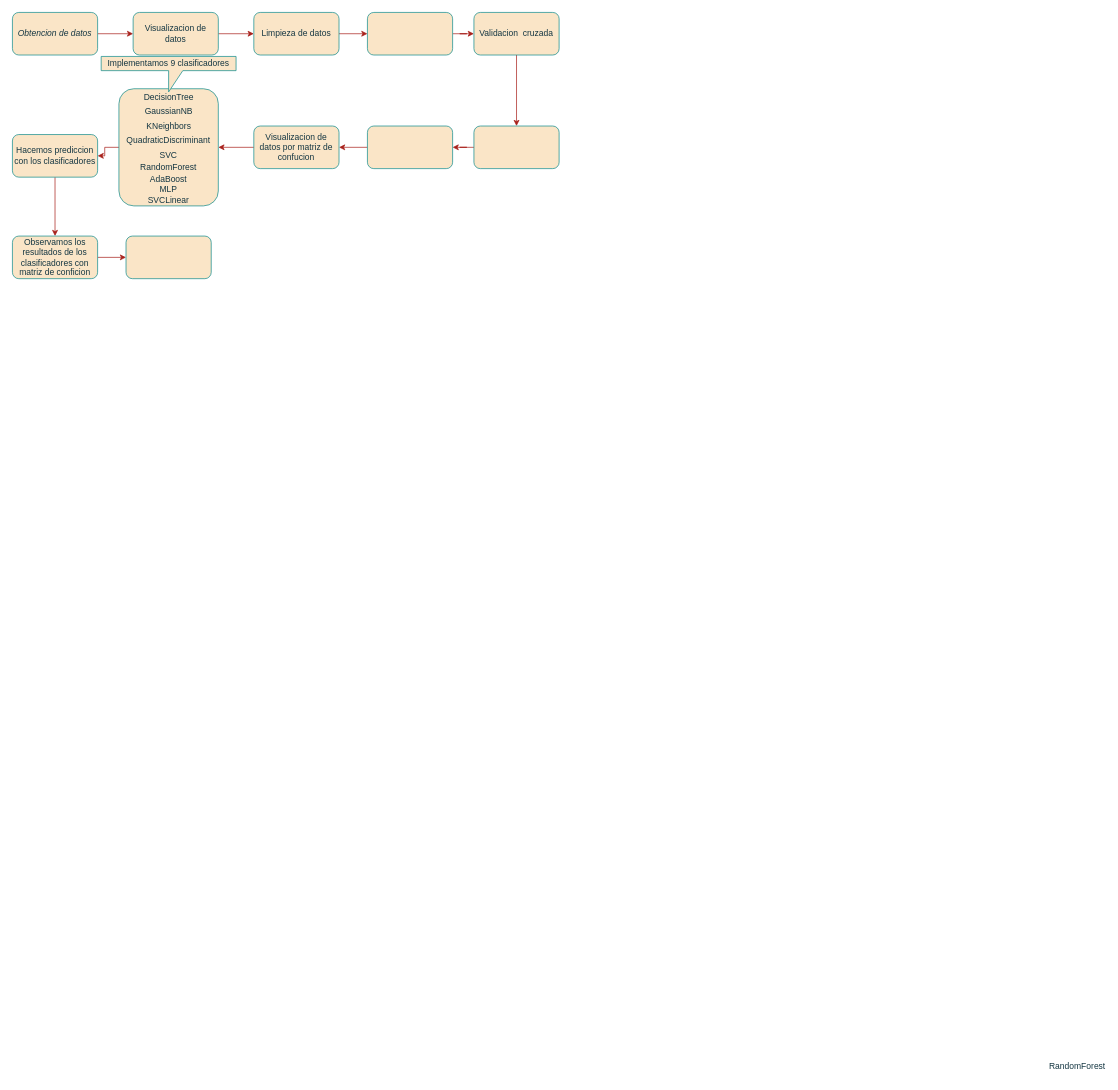
This 1118x1090 diagram has some shape labels left out. The box of each missing label's shape, as (x1, y1, x2, y2) in pixels:
Entrenamiento modelo Naive Bayes: (473, 125, 559, 169)
Pre-procesamiento (pre-processing): (367, 12, 453, 55)
Prediccion com el modelo: (367, 125, 453, 169)
Se hace reduccion de dimensionalidad (PCA y T-SNE): (125, 235, 211, 279)
